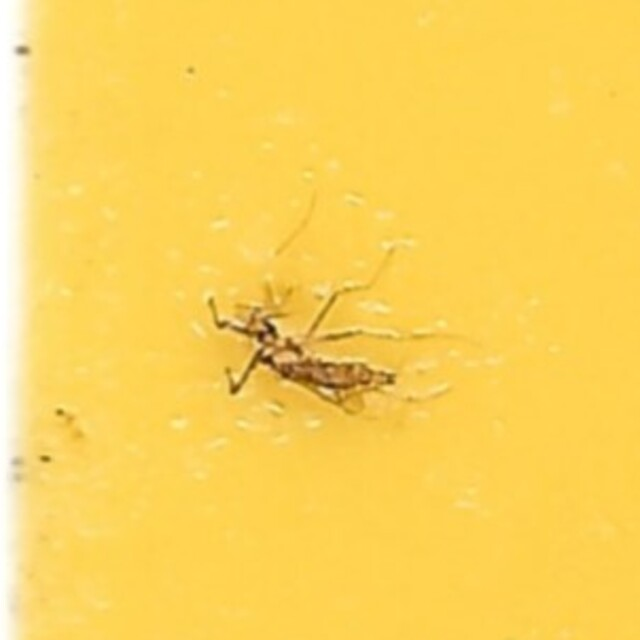Nematocera: (212, 222, 428, 418)
